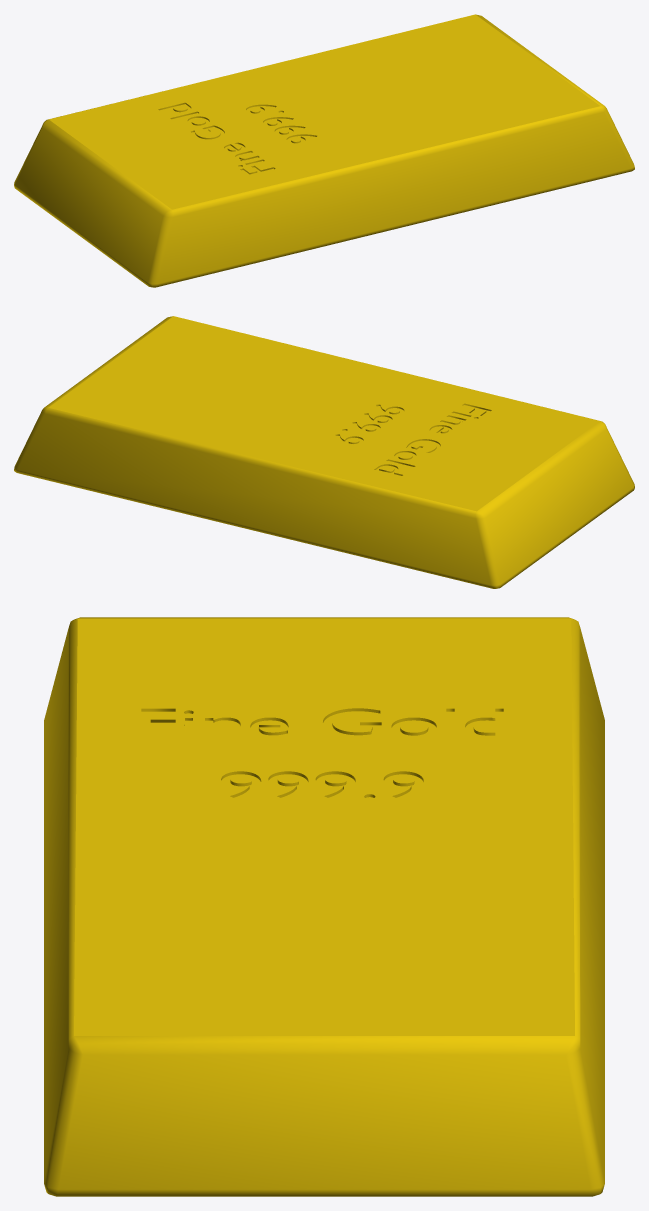
The model's file is ingot.glb.
3 renders of one model, top to bottom at view 1: azimuth 30°, elevation 25°; view 2: azimuth 150°, elevation 25°; view 3: azimuth 270°, elevation 25°, orthographic. The views are drawn at different scales.
Visible parts, largest first — view 1: ingot; view 2: ingot; view 3: ingot.
Part boxes in pixels (x1,y1,x2,y2): ingot: [14, 14, 634, 287]; ingot: [14, 316, 634, 588]; ingot: [44, 617, 604, 1196].
Bounding box in the file's own units: 0.15 × 0.02 × 0.075.
